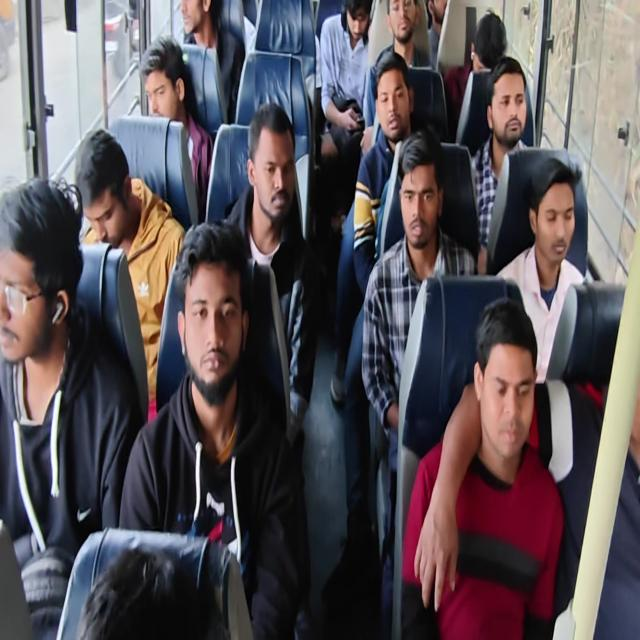person: (0, 186, 70, 367), (469, 326, 542, 469), (176, 238, 240, 387), (73, 125, 136, 251), (528, 168, 586, 278), (250, 108, 298, 223), (141, 40, 195, 131), (396, 144, 441, 249), (489, 64, 530, 157), (467, 9, 510, 76), (370, 64, 408, 137), (335, 0, 372, 59), (172, 0, 218, 40), (383, 0, 418, 47), (422, 0, 463, 31)
